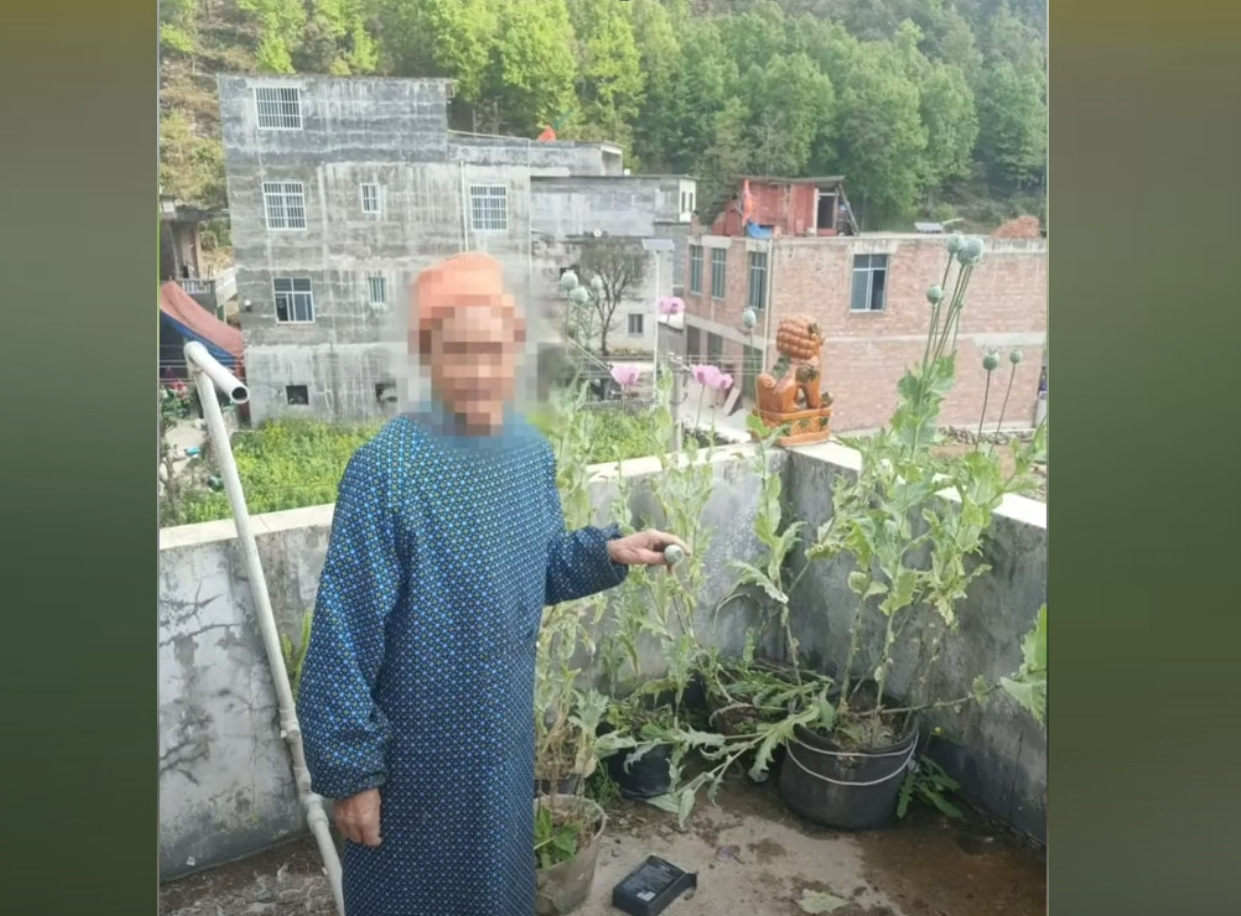Poppy: (741, 224, 1046, 764), (553, 251, 735, 788)
